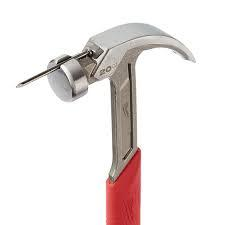hammer: (44, 19, 197, 224)
